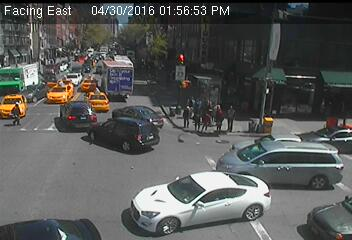neg: (34, 163, 63, 201), (27, 45, 52, 78), (271, 107, 296, 139), (142, 166, 165, 197), (52, 109, 74, 138), (89, 124, 110, 152), (293, 143, 314, 171), (171, 51, 190, 76), (255, 172, 273, 196), (198, 171, 216, 195), (82, 49, 98, 71), (99, 178, 115, 199), (229, 59, 244, 80), (108, 76, 121, 95), (289, 74, 302, 93), (149, 62, 162, 79), (132, 34, 145, 51)
pos: (5, 98, 26, 125), (210, 105, 230, 132), (223, 104, 241, 128), (176, 104, 193, 127), (188, 111, 204, 132), (201, 111, 213, 127)
